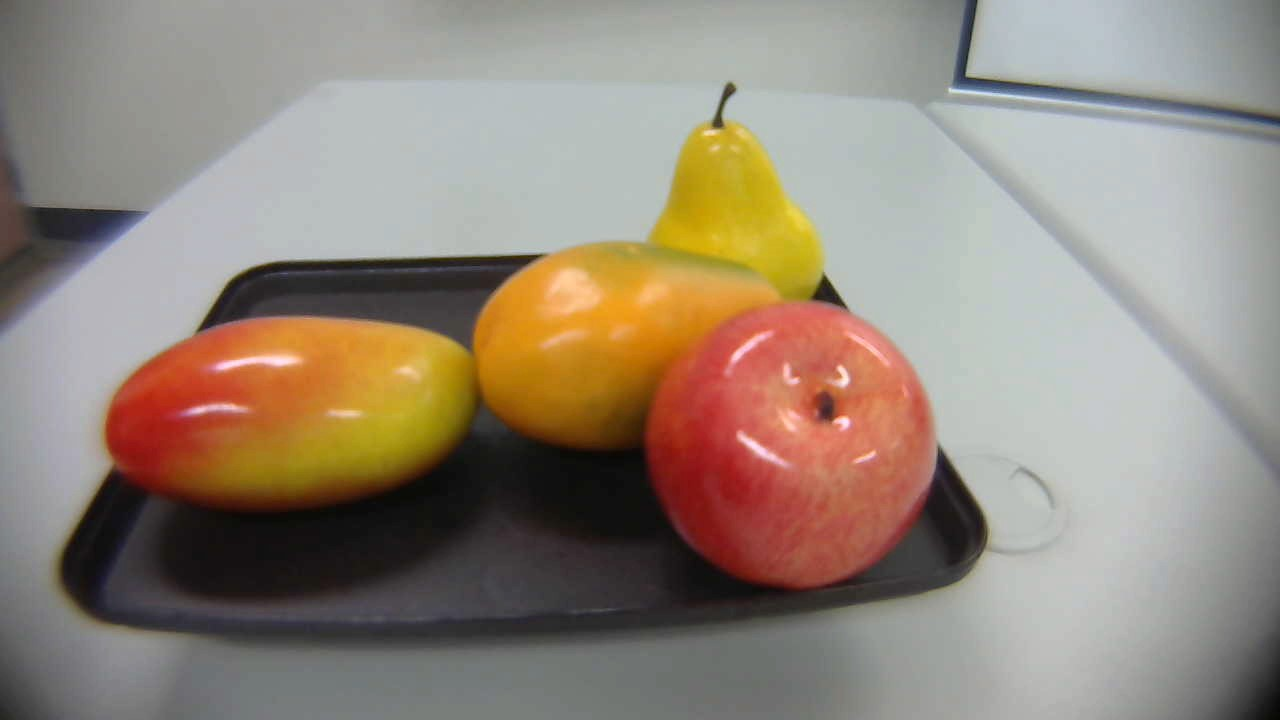papya: (467, 241, 793, 458)
red apple: (638, 301, 948, 586)
red mango: (87, 308, 500, 529)
yellow pear: (642, 66, 833, 313)
